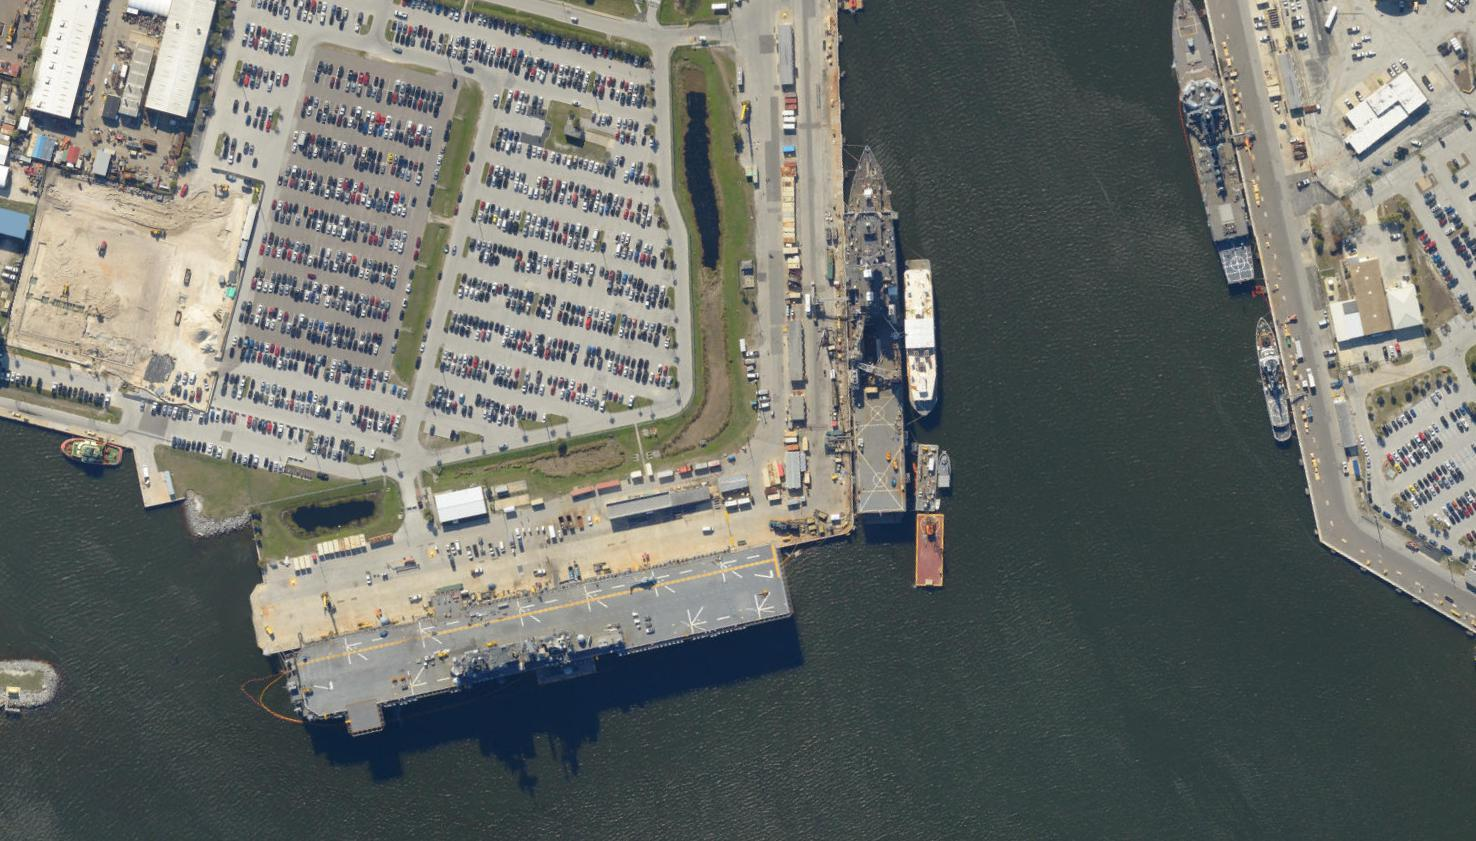amphiby: (279, 536, 801, 748), (833, 132, 919, 522)
